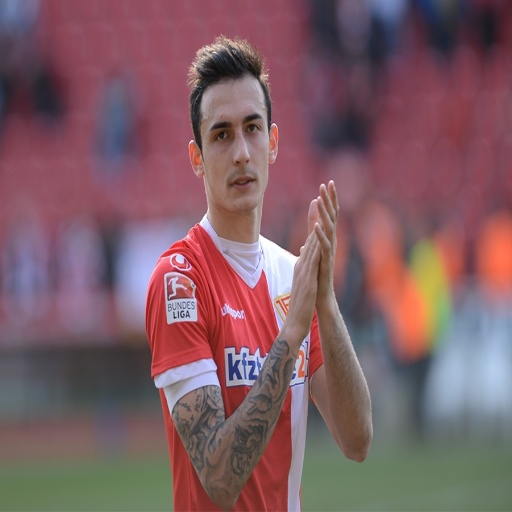hand: (286, 215, 325, 341), (305, 177, 337, 304)
